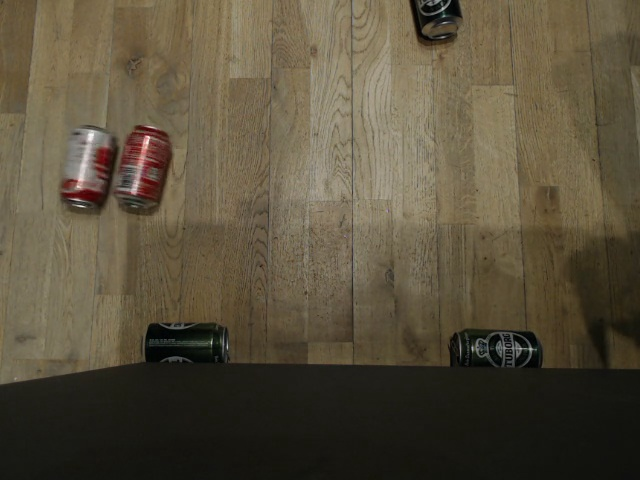beer: (453, 325, 542, 370), (137, 320, 228, 360), (408, 0, 463, 42)
cola: (56, 122, 118, 213), (112, 122, 171, 210)
